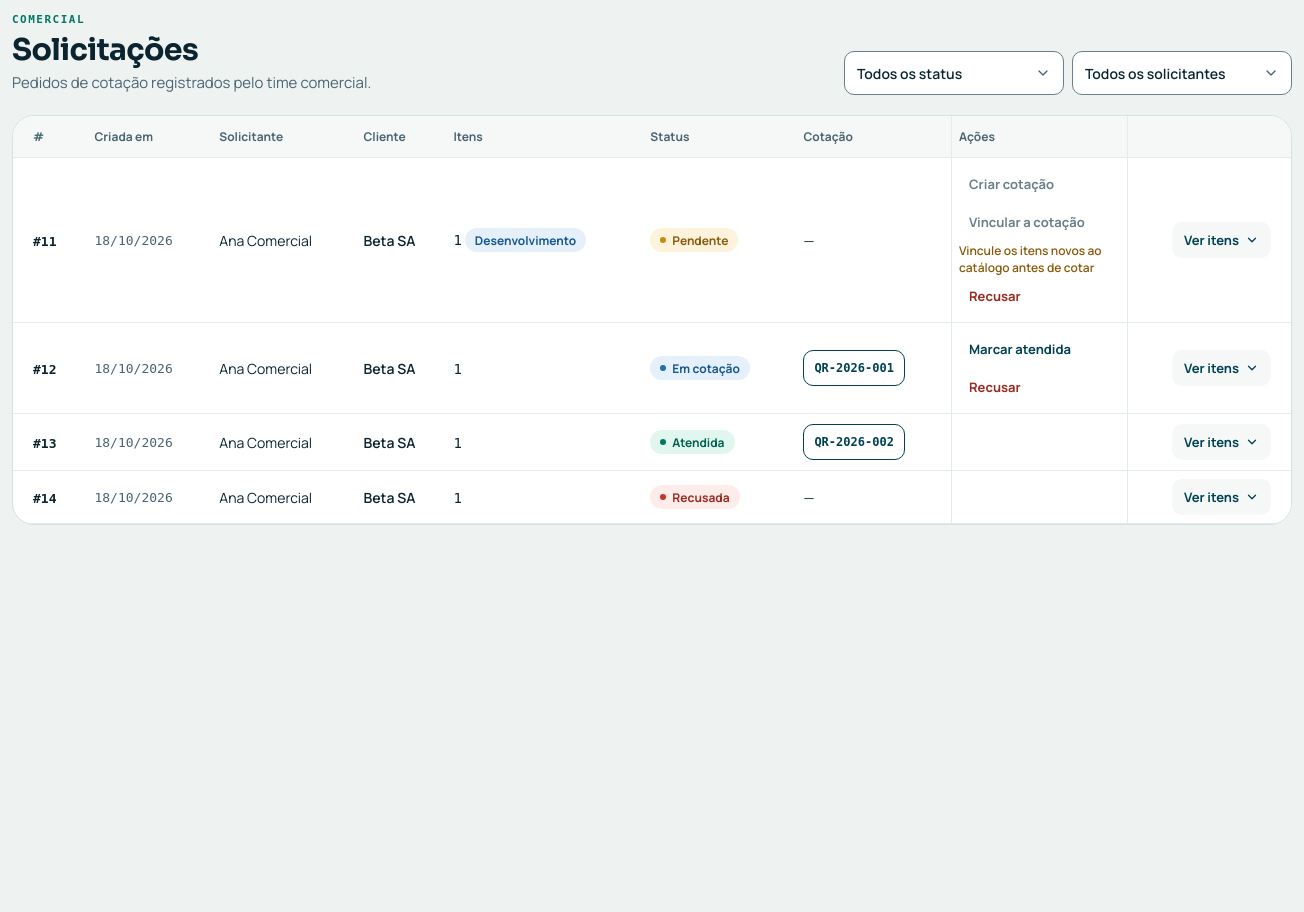
Test case: F9: lista do COMEX › a nota "Atendida sem preço" e o motivo da recusa entram no detalhe com o strong de antes
Click the button "Ver itens" in the row of "13".
click(1222, 442)  # box [1172, 424, 1271, 460]
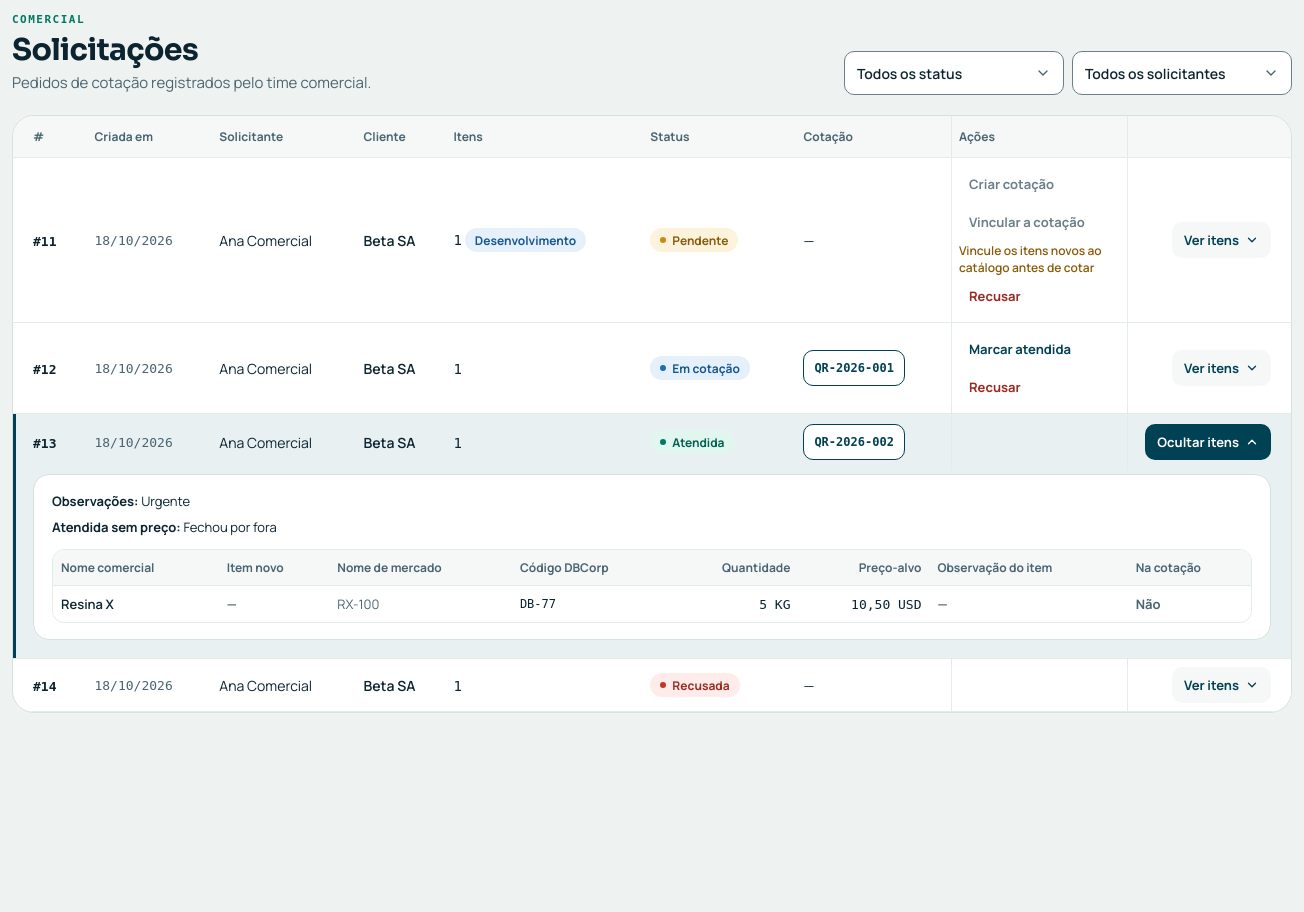
Now the text "Atendida sem preço:" is shown, box [52, 518, 181, 536]
Click the button "Ver itens" in the row of "14".
click(1222, 685)  # box [1172, 667, 1271, 703]
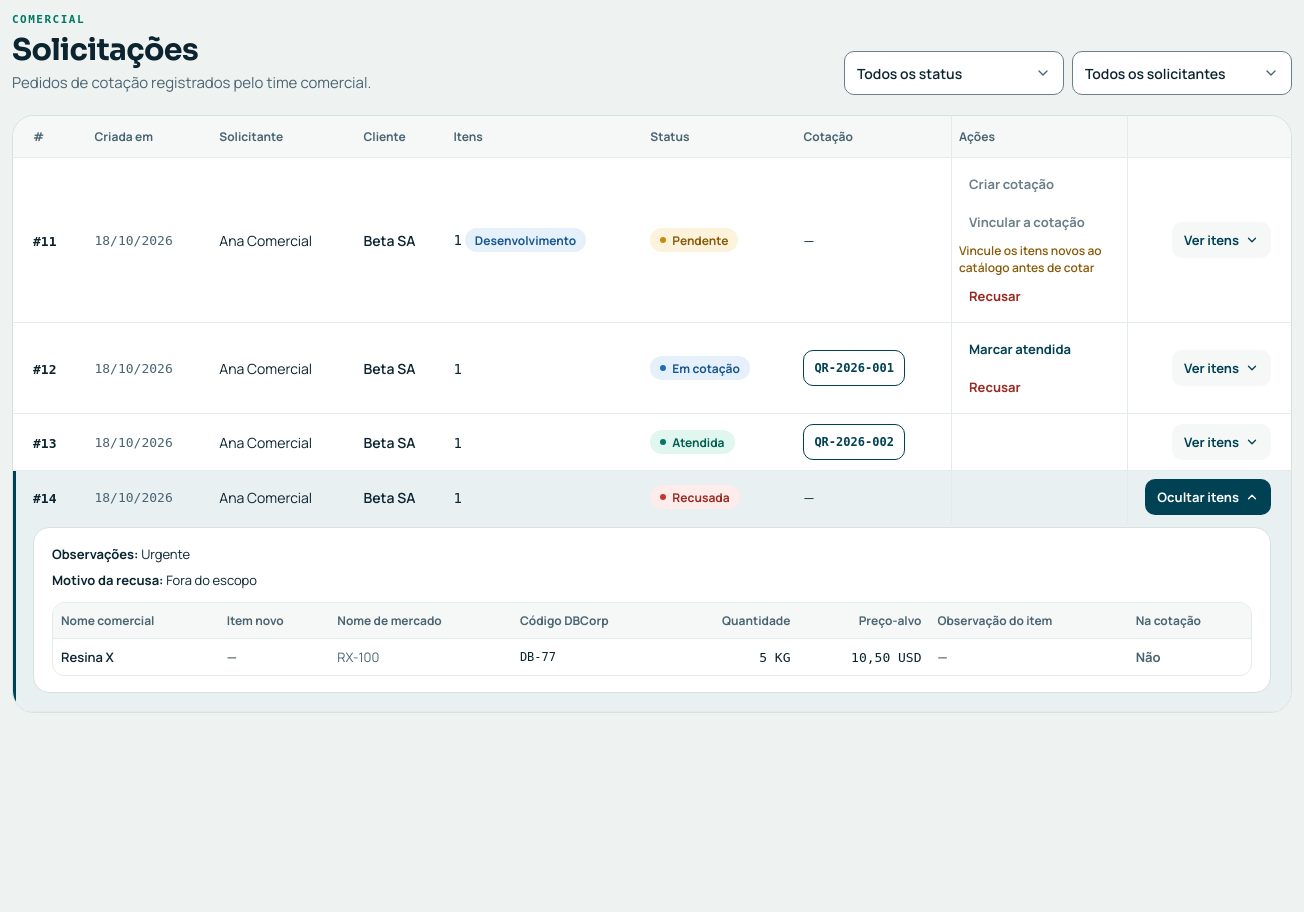
Now the text "Motivo da recusa:" is shown, box [52, 571, 164, 589]
